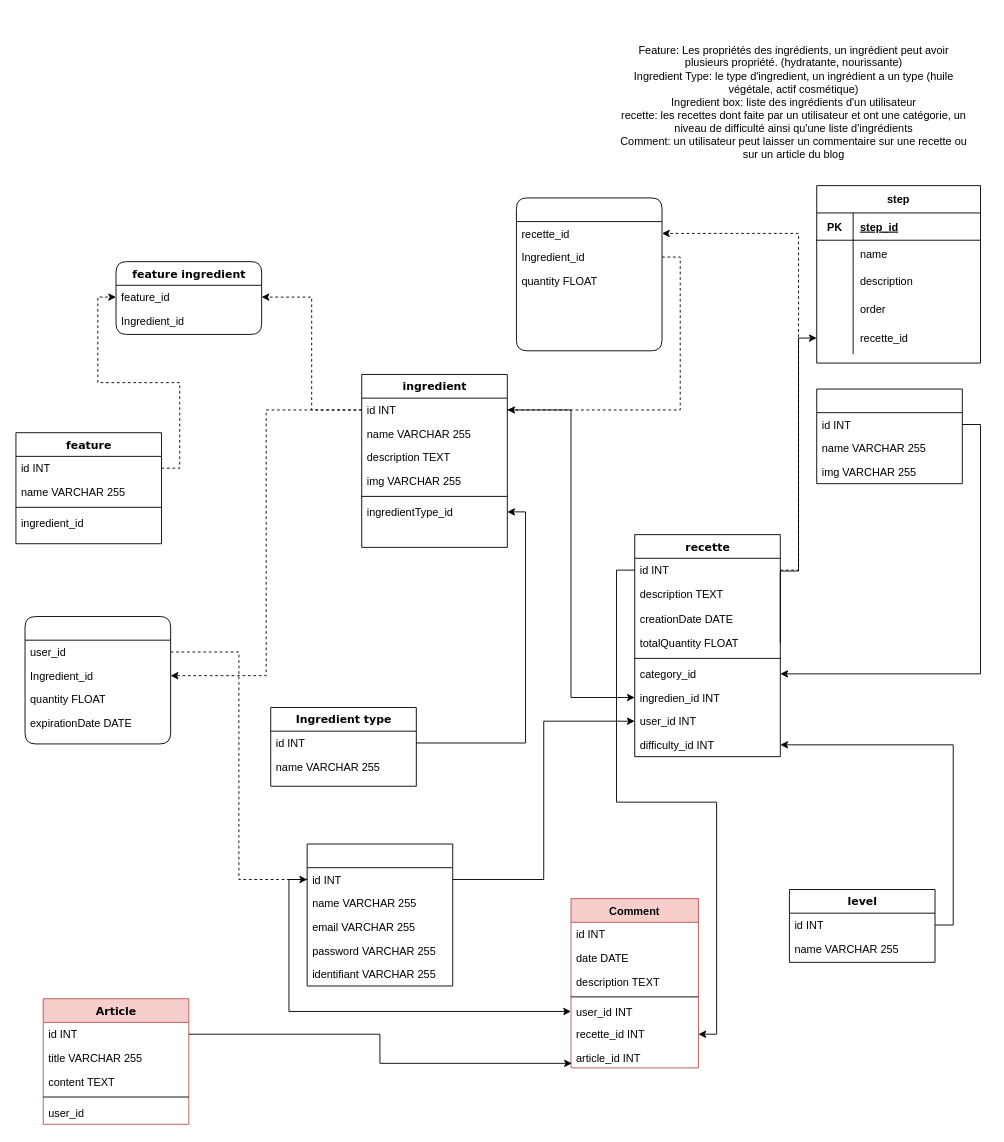
Some shapes in this 1004 by 1142 pixel diagram are drawn without their labels. The shapes that lost their labels are listed below. From the top down, each one's box as (x1, y1, x2, y2) in pixels, then its label:
(516, 197, 662, 351): ingredient recette
(816, 388, 962, 484): Category
(24, 616, 171, 744): ingredient box
(306, 843, 453, 986): user
